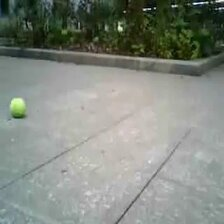tennis: (10, 98, 25, 116)
